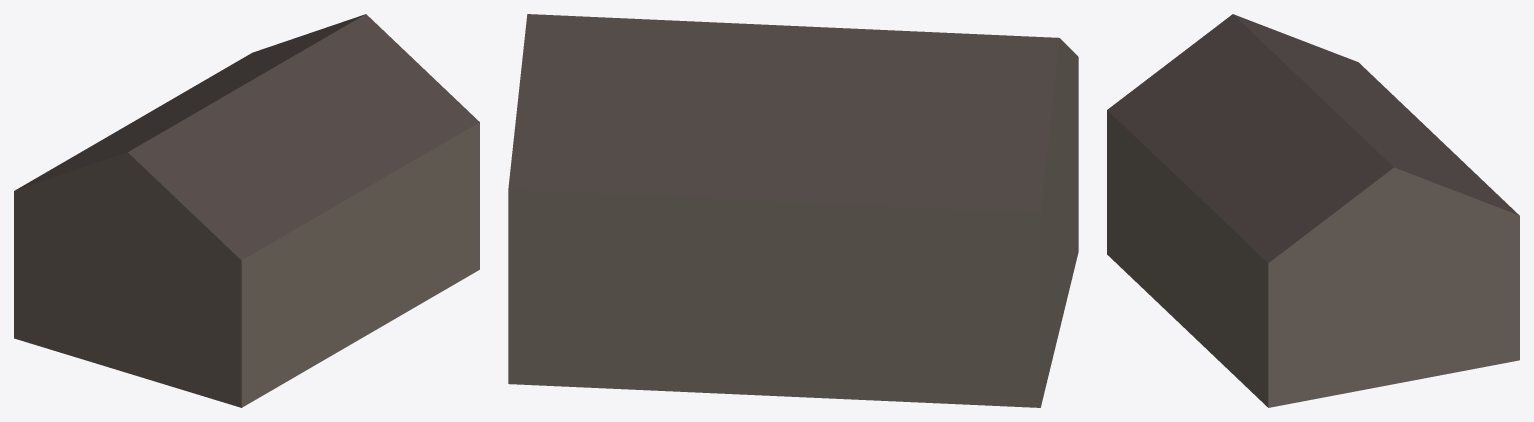
3 renders of one model, left to right at view 1: azimuth 30°, elevation 25°; view 2: azimuth 150°, elevation 25°; view 3: azimuth 270°, elevation 25°, orthographic. The views are drawn at different scales.
Visible parts, largest first — view 1: HP-w859088461; view 2: HP-w859088461; view 3: HP-w859088461.
Part boxes in pixels (x1=…): HP-w859088461: x1=14, y1=14, x2=479, y2=407; HP-w859088461: x1=508, y1=14, x2=1078, y2=407; HP-w859088461: x1=1107, y1=14, x2=1519, y2=407.
Size of the model in its own units: 26.83 by 13.49 by 23.27.
